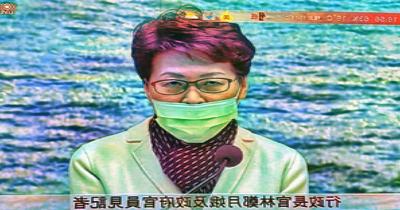mask_weared_incorrect: (147, 69, 239, 144)
